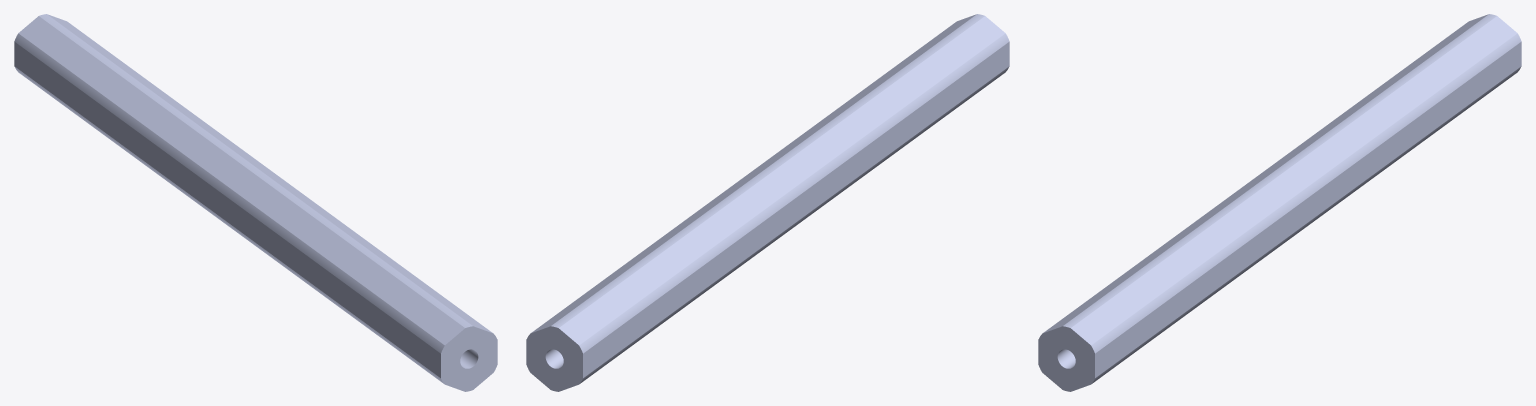
The model's file is Extrusion_Profile.obj.
3 views of the same model, side by side, from view 1: azimuth 30°, elevation 25°; view 2: azimuth 150°, elevation 25°; view 3: azimuth 330°, elevation 25° (orthographic).
Visible parts, largest first — view 1: mesh17137, mesh17135, mesh17136, mesh17130, mesh17138, mesh17128, mesh17134; view 2: mesh17137, mesh17135, mesh17136, mesh17130, mesh17138, mesh17127, mesh17134; view 3: mesh17138, mesh17140, mesh17139, mesh17130, mesh17137, mesh17128, mesh17131.
Boxes of the visible parts, box(x1,y1,x2,y2) form: mesh17137: box(18, 16, 464, 345); mesh17135: box(14, 42, 440, 377); mesh17136: box(14, 33, 444, 353); mesh17130: box(39, 14, 472, 327); mesh17138: box(47, 14, 492, 333); mesh17128: box(441, 326, 497, 391); mesh17134: box(14, 66, 443, 383); mesh17137: box(559, 16, 1005, 345); mesh17135: box(583, 42, 1009, 377); mesh17136: box(579, 33, 1009, 353); mesh17130: box(551, 14, 984, 327); mesh17138: box(531, 14, 976, 333); mesh17127: box(526, 326, 582, 391); mesh17134: box(580, 66, 1009, 383); mesh17138: box(1071, 16, 1517, 345); mesh17140: box(1095, 42, 1521, 377); mesh17139: box(1091, 33, 1521, 353); mesh17130: box(1063, 14, 1496, 327); mesh17137: box(1043, 14, 1488, 333); mesh17128: box(1038, 326, 1094, 391); mesh17131: box(1092, 66, 1521, 383).
Bounding box in the file's own units: 0.0127 × 0.0137 × 0.1651.
